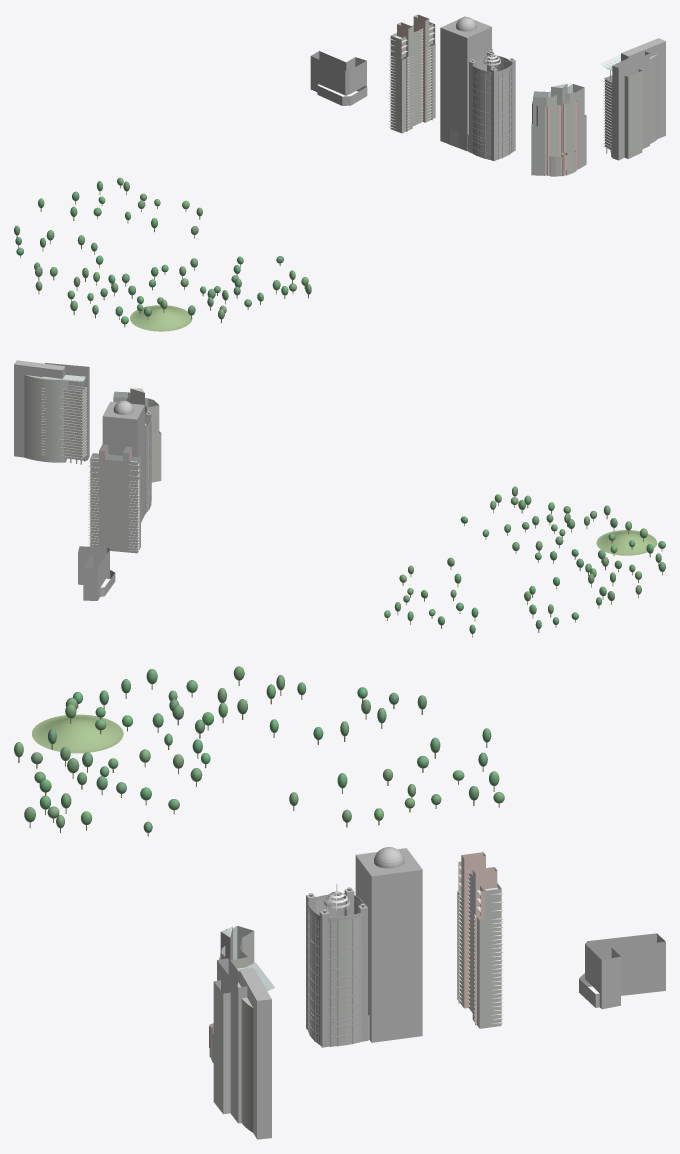
The model's file is lujiazui-38.glb.
The picture shows the model from 3 angles, top to bottom: view 1: azimuth 30°, elevation 25°; view 2: azimuth 150°, elevation 25°; view 3: azimuth 270°, elevation 25°; orthographic projection. The views are drawn at different scales.
Parts seen in each view (by area): view 1: source_6268_Mat3d66-1303573-631-826_part0, source_6244__part0, source_6264__part0, source_6243_Mat3d66-1303573-607-8344_part0, source_6270_Mat3d66-1303573-583-6131_part0, source_6255__part0, source_6259_Mat3d66-1303573-623-4294_part0, source_6258__part0, source_6247_Mat3d66-1303573-611-2369_part0, source_6266_Mat3d66-1303573-630-684_part0, experimental_slope_8m_part0, source_6253__part0 (+6 smaller); view 2: source_6269__part0, source_6255__part0, source_6268_Mat3d66-1303573-631-826_part0, source_6244__part0, source_6270_Mat3d66-1303573-583-6131_part0, source_6266_Mat3d66-1303573-630-684_part0, source_6258__part0, source_6253__part0, experimental_slope_8m_part0, source_6242_Mat3d66-1303573-606-9880_part0, source_6264__part0, source_6259_Mat3d66-1303573-623-4294_part0 (+2 smaller); view 3: source_6268_Mat3d66-1303573-631-826_part0, source_6243_Mat3d66-1303573-607-8344_part0, source_6244__part0, source_6270_Mat3d66-1303573-583-6131_part0, source_6266_Mat3d66-1303573-630-684_part0, experimental_slope_8m_part0, source_6247_Mat3d66-1303573-611-2369_part0, source_6246__part0, source_6258__part0, source_6259_Mat3d66-1303573-623-4294_part0, source_6255__part0, source_6269__part0 (+4 smaller).
Boxes of the visible parts, x1=… form: source_6268_Mat3d66-1303573-631-826_part0: x1=440, y1=17, x2=491, y2=151; source_6244__part0: x1=472, y1=58, x2=612, y2=159; source_6264__part0: x1=531, y1=87, x2=586, y2=175; source_6243_Mat3d66-1303573-607-8344_part0: x1=469, y1=50, x2=515, y2=161; source_6270_Mat3d66-1303573-583-6131_part0: x1=310, y1=51, x2=367, y2=105; source_6255__part0: x1=399, y1=28, x2=435, y2=133; source_6259_Mat3d66-1303573-623-4294_part0: x1=606, y1=51, x2=649, y2=160; source_6258__part0: x1=605, y1=71, x2=642, y2=158; source_6247_Mat3d66-1303573-611-2369_part0: x1=397, y1=14, x2=435, y2=131; source_6266_Mat3d66-1303573-630-684_part0: x1=621, y1=38, x2=665, y2=138; experimental_slope_8m_part0: x1=130, y1=305, x2=192, y2=331; source_6253__part0: x1=408, y1=19, x2=429, y2=130; source_6269__part0: x1=24, y1=375, x2=67, y2=462; source_6255__part0: x1=90, y1=458, x2=140, y2=553; source_6268_Mat3d66-1303573-631-826_part0: x1=102, y1=400, x2=144, y2=518; source_6244__part0: x1=41, y1=385, x2=150, y2=511; source_6270_Mat3d66-1303573-583-6131_part0: x1=78, y1=546, x2=115, y2=600; source_6266_Mat3d66-1303573-630-684_part0: x1=14, y1=360, x2=65, y2=457; source_6258__part0: x1=63, y1=389, x2=86, y2=457; source_6253__part0: x1=99, y1=450, x2=128, y2=552; experimental_slope_8m_part0: x1=596, y1=530, x2=657, y2=555; source_6242_Mat3d66-1303573-606-9880_part0: x1=44, y1=375, x2=139, y2=551; source_6264__part0: x1=113, y1=397, x2=161, y2=482; source_6259_Mat3d66-1303573-623-4294_part0: x1=44, y1=363, x2=89, y2=464; source_6268_Mat3d66-1303573-631-826_part0: x1=355, y1=847, x2=422, y2=1042; source_6243_Mat3d66-1303573-607-8344_part0: x1=306, y1=887, x2=367, y2=1047; source_6244__part0: x1=220, y1=897, x2=361, y2=1046; source_6270_Mat3d66-1303573-583-6131_part0: x1=579, y1=933, x2=665, y2=1009; source_6266_Mat3d66-1303573-630-684_part0: x1=239, y1=968, x2=271, y2=1139; experimental_slope_8m_part0: x1=32, y1=714, x2=123, y2=753; source_6247_Mat3d66-1303573-611-2369_part0: x1=458, y1=852, x2=497, y2=1025; source_6246__part0: x1=484, y1=888, x2=501, y2=1028; source_6258__part0: x1=213, y1=981, x2=230, y2=1114; source_6259_Mat3d66-1303573-623-4294_part0: x1=217, y1=958, x2=247, y2=1123; source_6255__part0: x1=457, y1=871, x2=484, y2=1028; source_6269__part0: x1=237, y1=982, x2=253, y2=1132.
Size of what is drawn, in the model's own units: 705 by 130 by 426.
